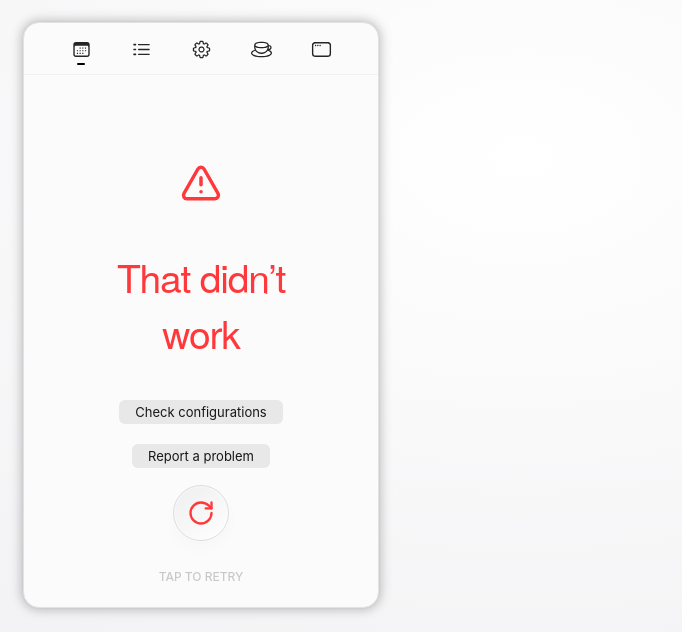
Test: persisted worker failure screens › restores the persisted failure when returning to the failed workflow
The image size is (682, 632).
Expected: the heading "That didn’t work" is shown, [117,248,285,360]
Click the button named "Alerts" at point(141, 49), box [123,31,159,67]
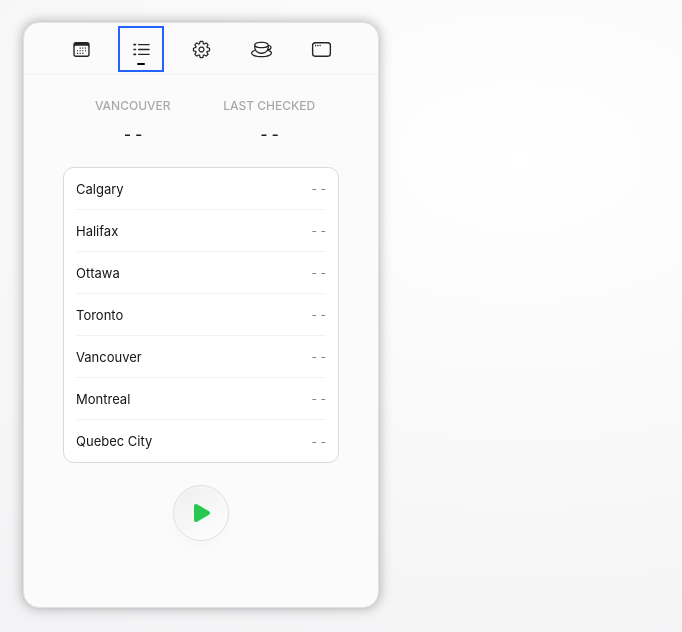
Expected: the heading "That didn’t work" is gone
Click the button named "Booking" at point(81, 49), box [63,31,99,67]
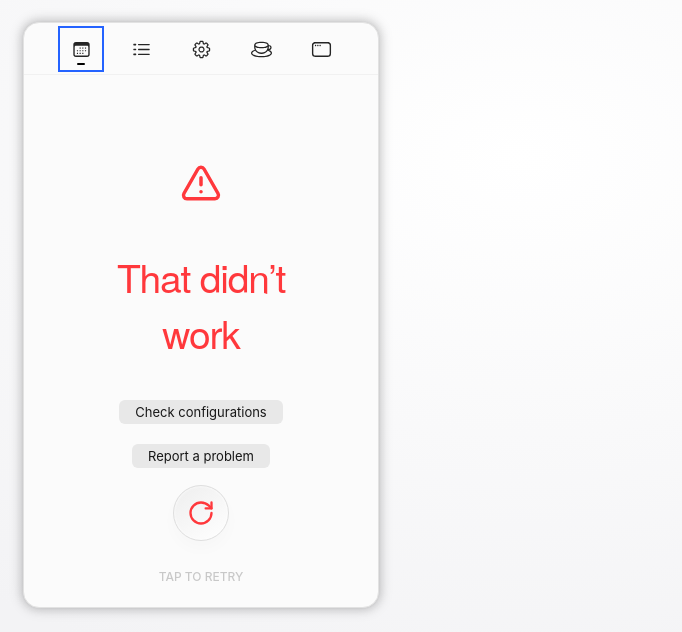
Expected: the heading "That didn’t work" is shown, [117,248,285,360]
